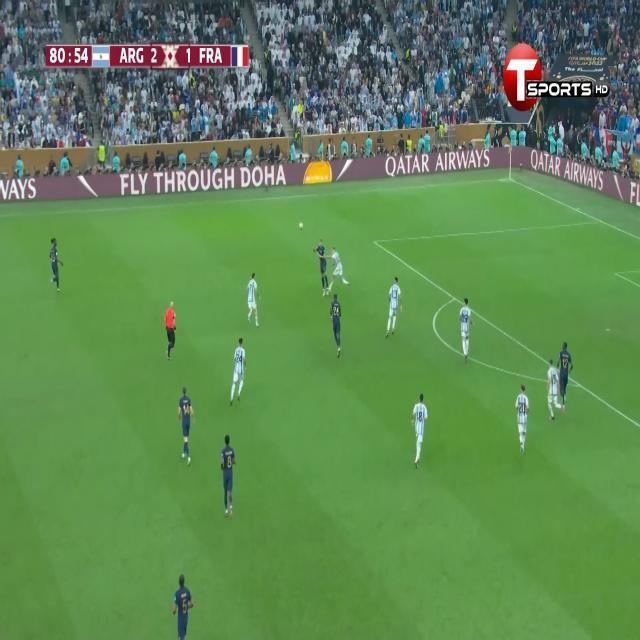ball: (298, 219, 305, 234)
player: (174, 382, 200, 490), (504, 374, 533, 462), (234, 269, 269, 337), (38, 221, 66, 305), (407, 380, 432, 470), (323, 240, 356, 304), (225, 327, 247, 414), (454, 281, 477, 361), (176, 571, 199, 640), (223, 417, 238, 520), (388, 256, 405, 344), (545, 342, 563, 425), (555, 353, 576, 411), (330, 293, 347, 361), (315, 234, 330, 300)
referee: (158, 301, 179, 375)
